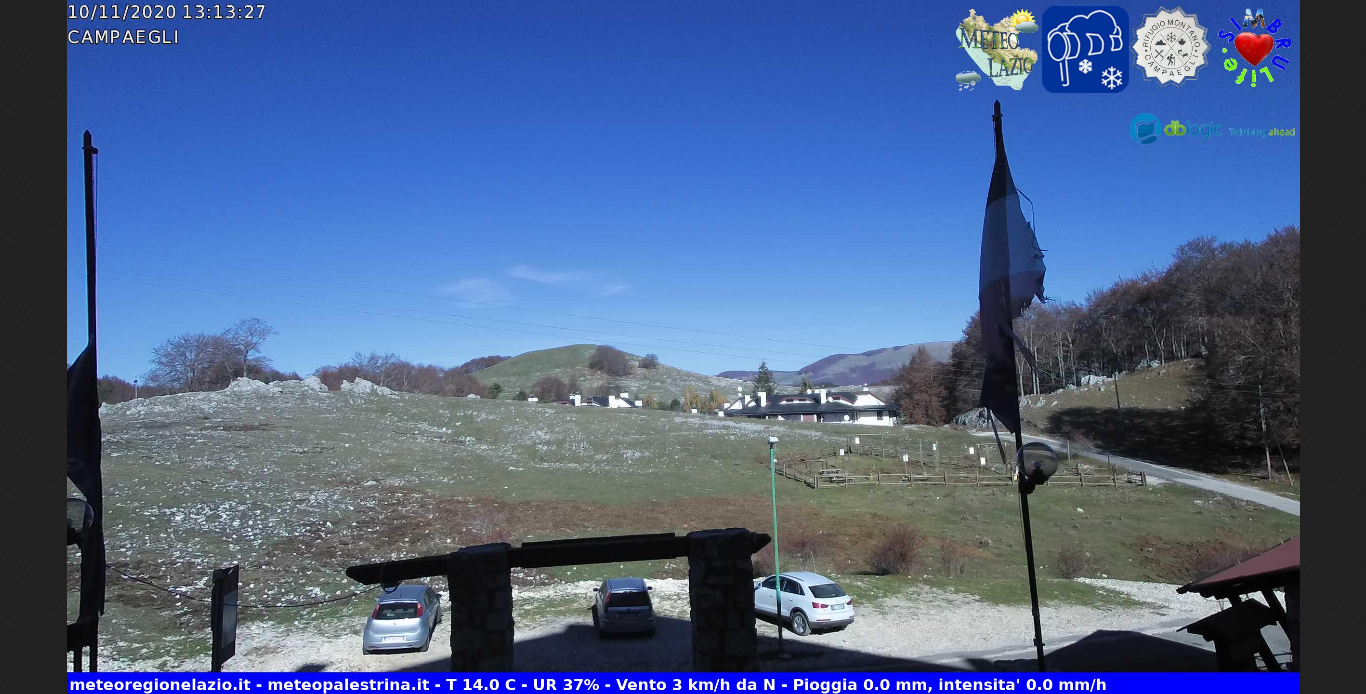no: (966, 92, 1056, 435)
